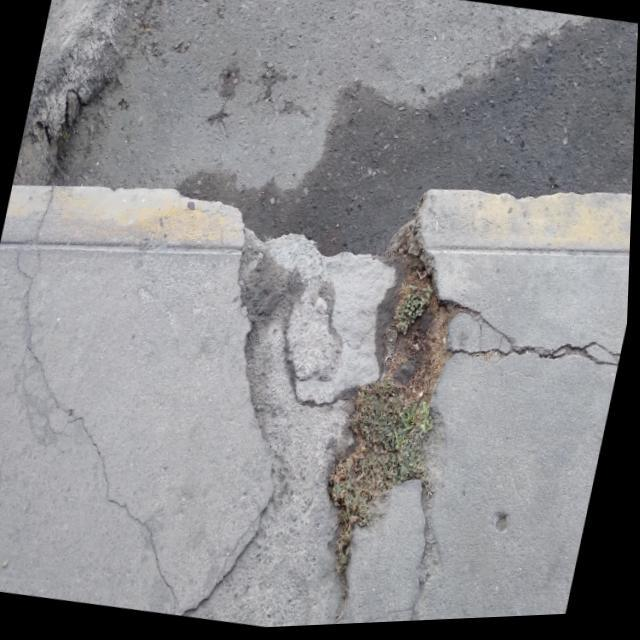hole: (304, 216, 476, 544)
